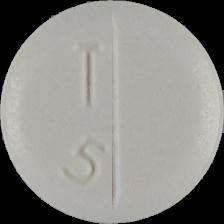68788-9845: (0, 0, 224, 224)
